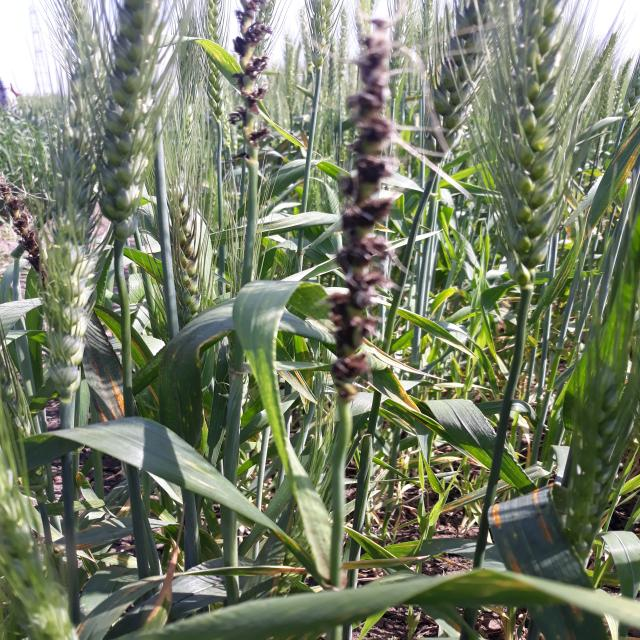loose_charred: (318, 14, 427, 418), (223, 0, 290, 201), (2, 166, 52, 284)
yellow_rust: (482, 484, 576, 598), (72, 579, 151, 640), (86, 330, 136, 416), (148, 542, 192, 638), (74, 518, 148, 556), (180, 560, 306, 581), (65, 468, 114, 517), (269, 522, 312, 569), (416, 493, 484, 521), (344, 551, 431, 572), (272, 368, 316, 408), (122, 328, 160, 369), (76, 549, 134, 573), (431, 608, 471, 640), (94, 303, 132, 335), (144, 386, 166, 410)
